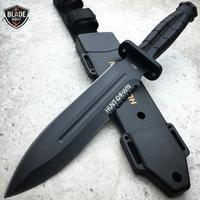knife: (3, 14, 185, 198)
